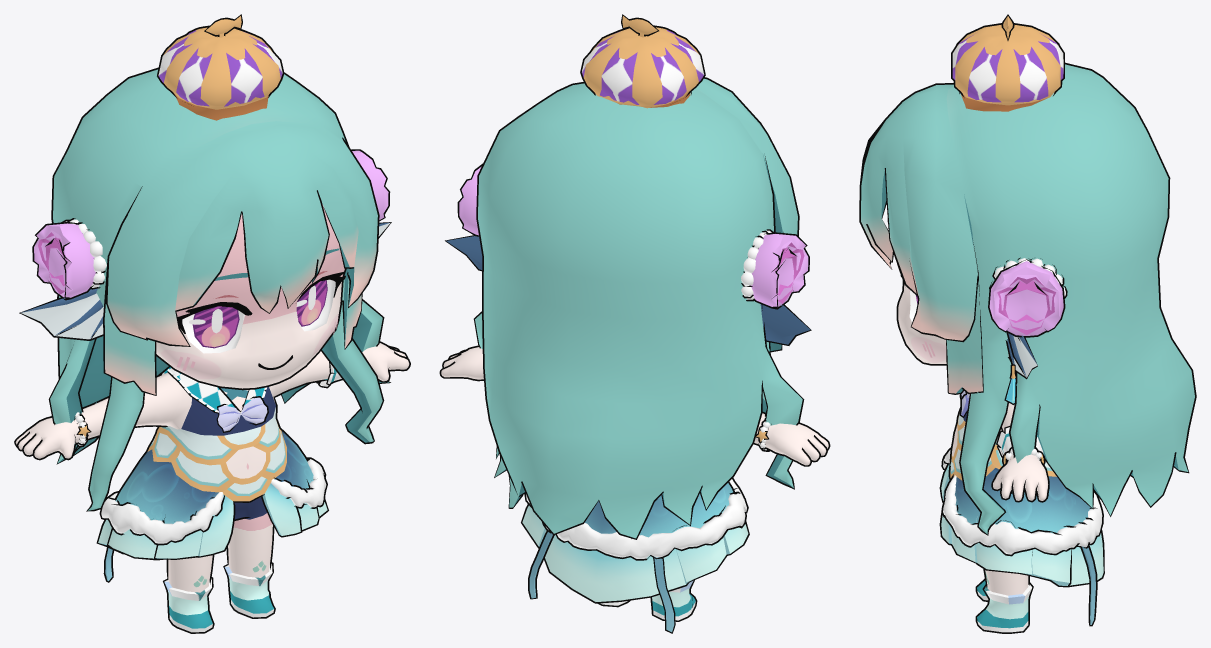
The model's file is hairy-girl.glb.
3 views of the same model, side by side, from view 1: azimuth 30°, elevation 25°; view 2: azimuth 150°, elevation 25°; view 3: azimuth 270°, elevation 25° (orthographic).
Parts seen in each view (by area): view 1: Object_88; view 2: Object_88; view 3: Object_88.
Part boxes in pixels (<box>): Object_88: <box>14,14,410,633</box>; Object_88: <box>439,14,830,633</box>; Object_88: <box>859,14,1196,633</box>.
Bounding box in the file's own units: 2.12 × 3.14 × 1.61.
1 material, 1 textured.
